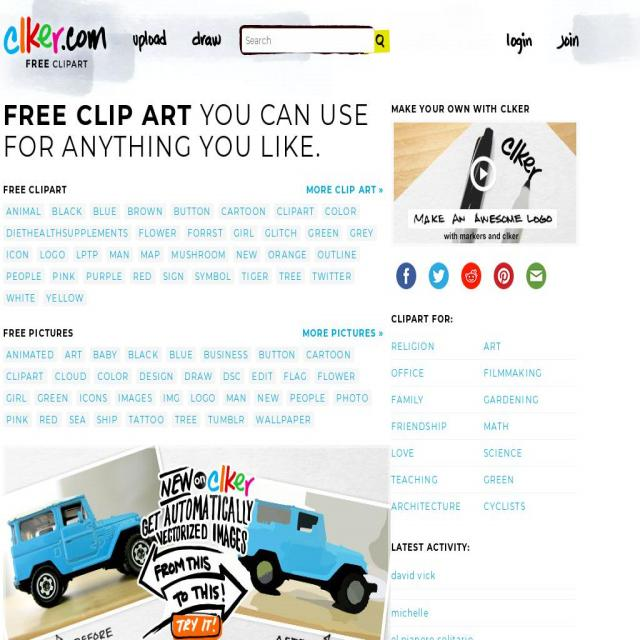login-option: (499, 27, 535, 58)
navigation-links: (8, 173, 388, 447), (393, 323, 578, 640), (128, 22, 232, 62)
search: (236, 20, 394, 60)
sign-up-option: (552, 30, 588, 58)
video: (387, 113, 585, 247)
